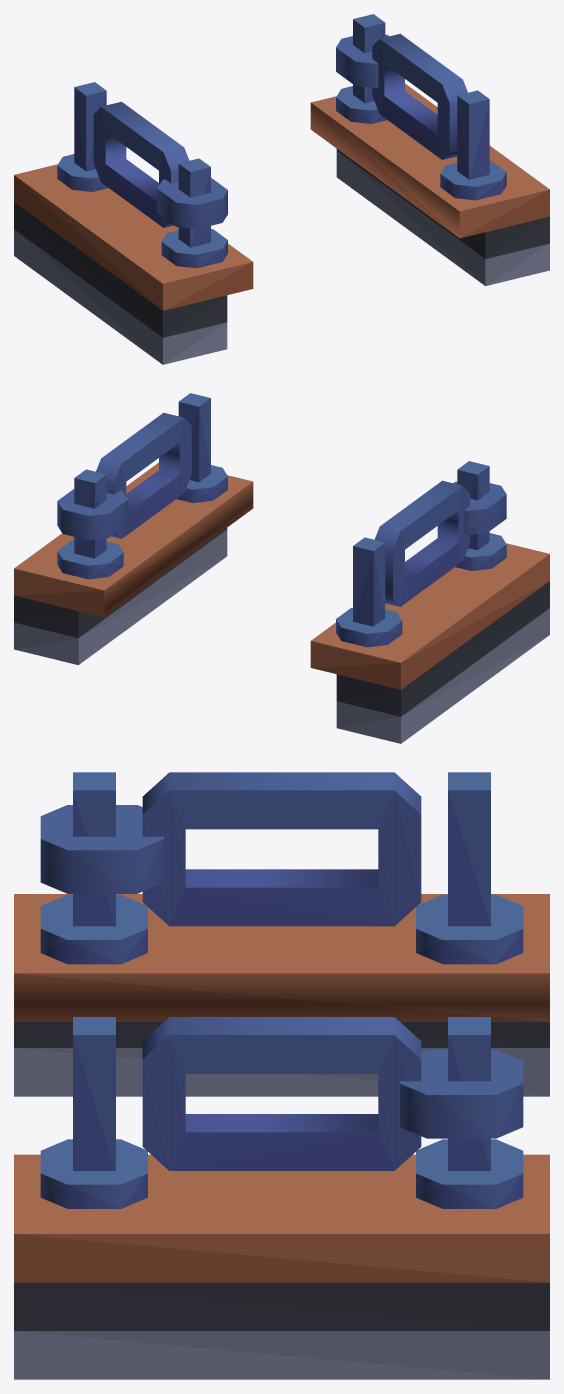
Rendered from coaster_station_gate.glb.
3 views of the same model, one above another, from view 1: azimuth 30°, elevation 25°; view 2: azimuth 150°, elevation 25°; view 3: azimuth 270°, elevation 25° (orthographic). The views are drawn at different scales.
Parts seen in each view (by area): view 1: coaster_station_gate; view 2: coaster_station_gate; view 3: coaster_station_gate.
Part boxes in pixels (bbox=[...]): coaster_station_gate: bbox=[14, 14, 549, 364]; coaster_station_gate: bbox=[14, 393, 549, 743]; coaster_station_gate: bbox=[14, 772, 549, 1379].
Bounding box in the file's own units: 1.5 × 0.63 × 1.
